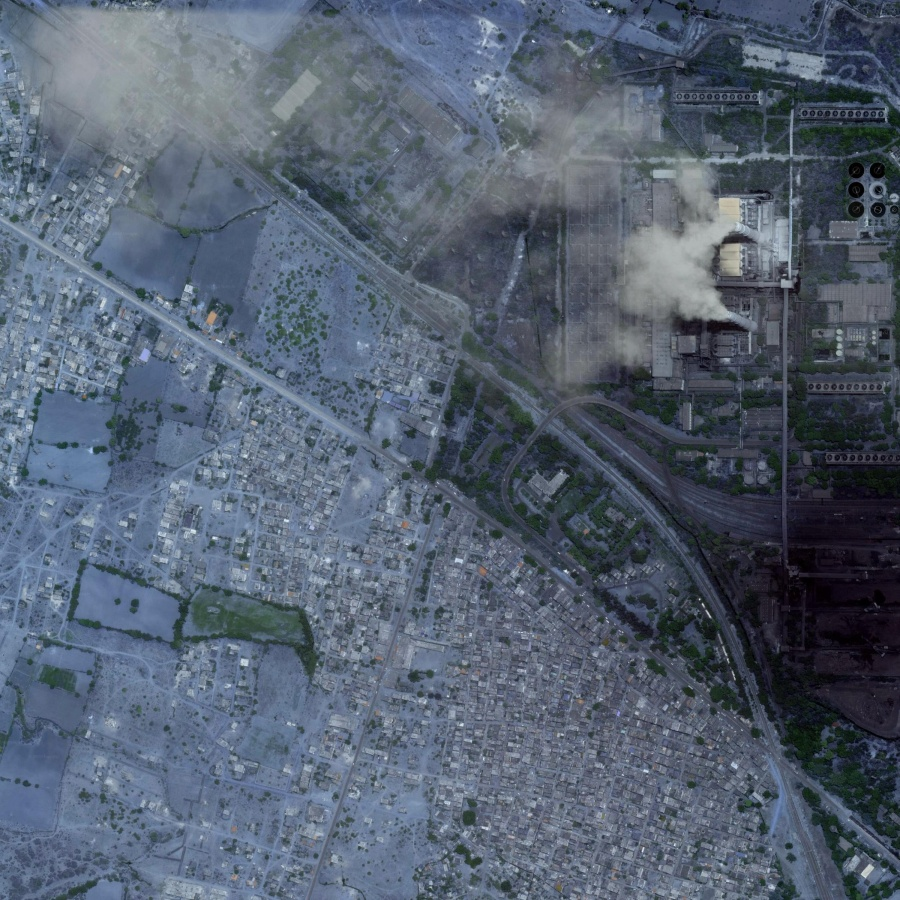PowerPlant: (568, 82, 840, 402)
